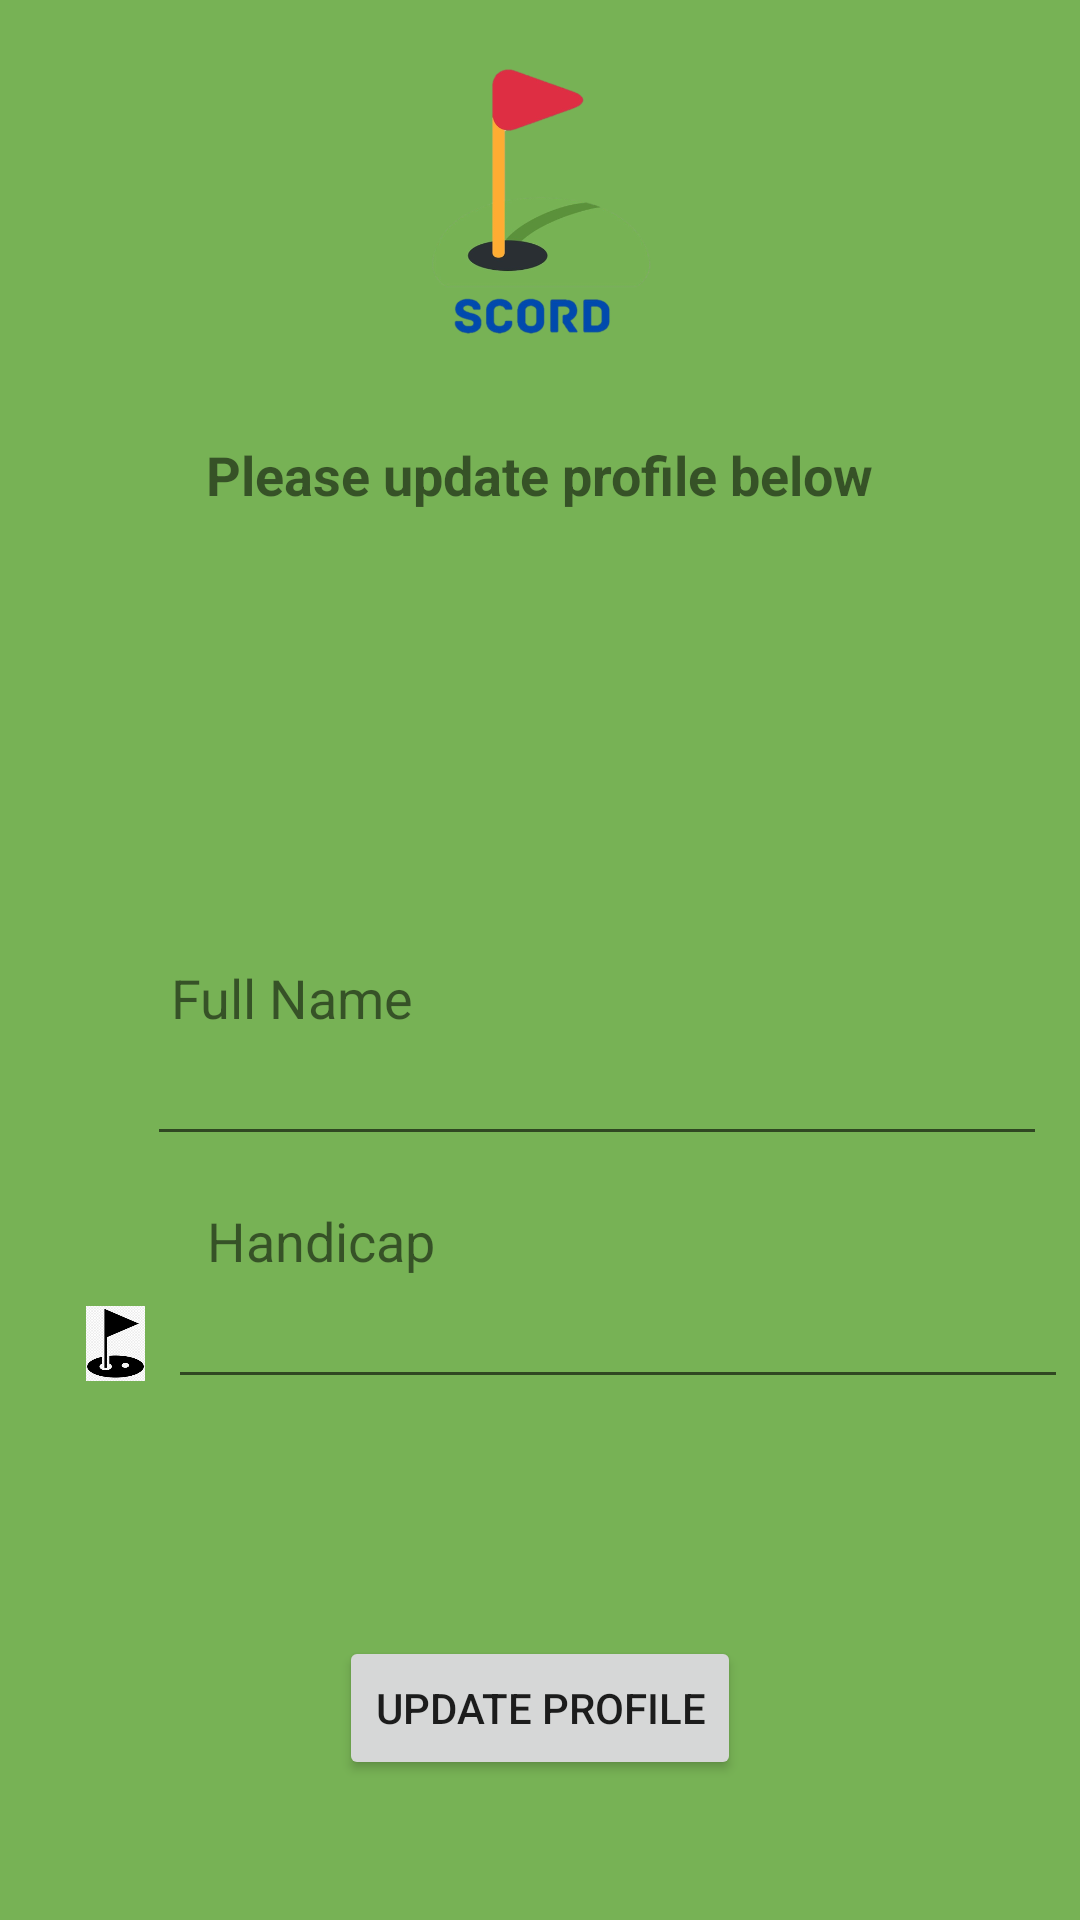

Named icons in this screenshot (1080x1920) and their centers, (x,y):
golf pin: (115,1343)
